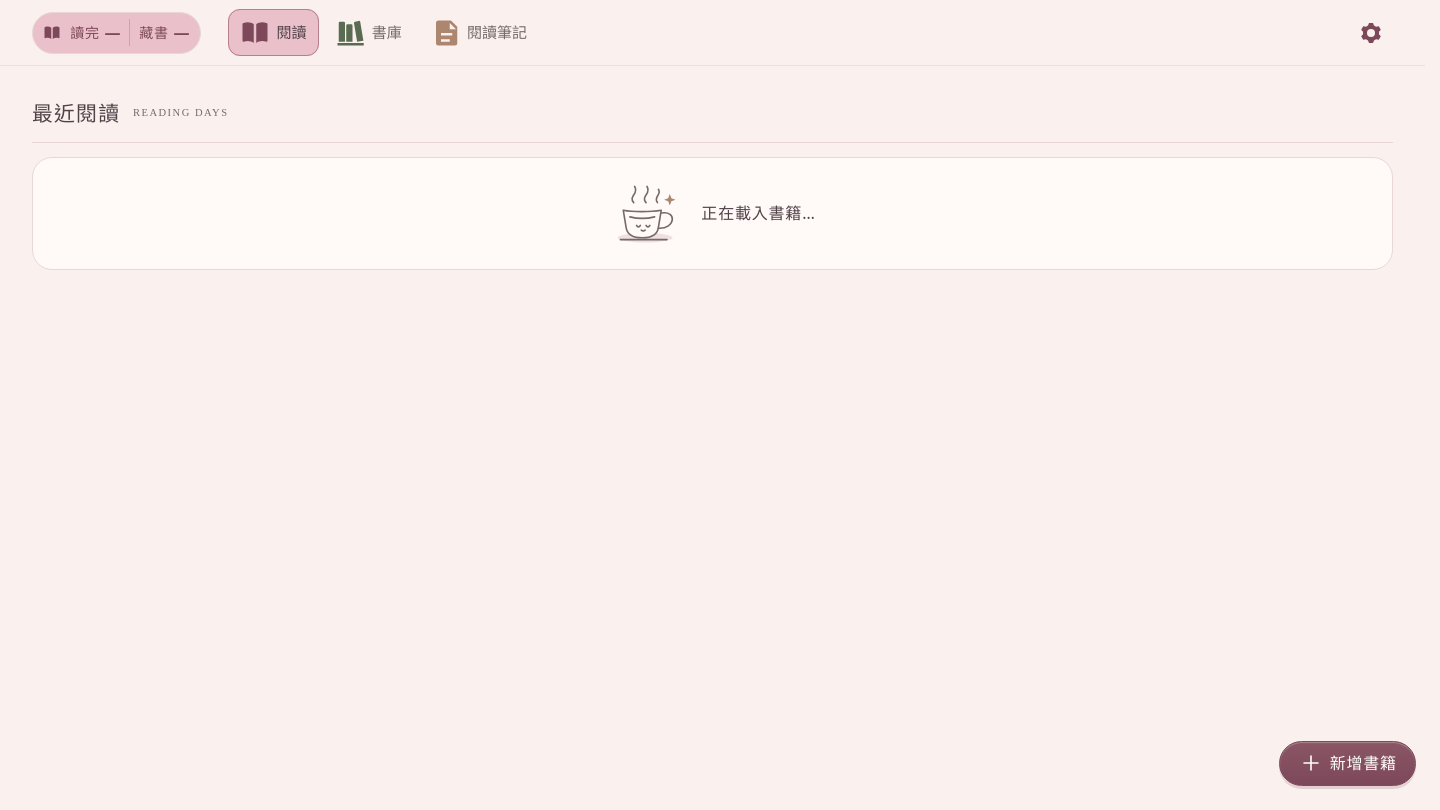
Test: library reading entries › rates a completed book directly in the shelf, retaining its ten-point scale and manual fields
What coordinates should you click on to do the following:
click the button "書庫"
I would click on:
 (369, 33)
Its box is [323,9,414,56].
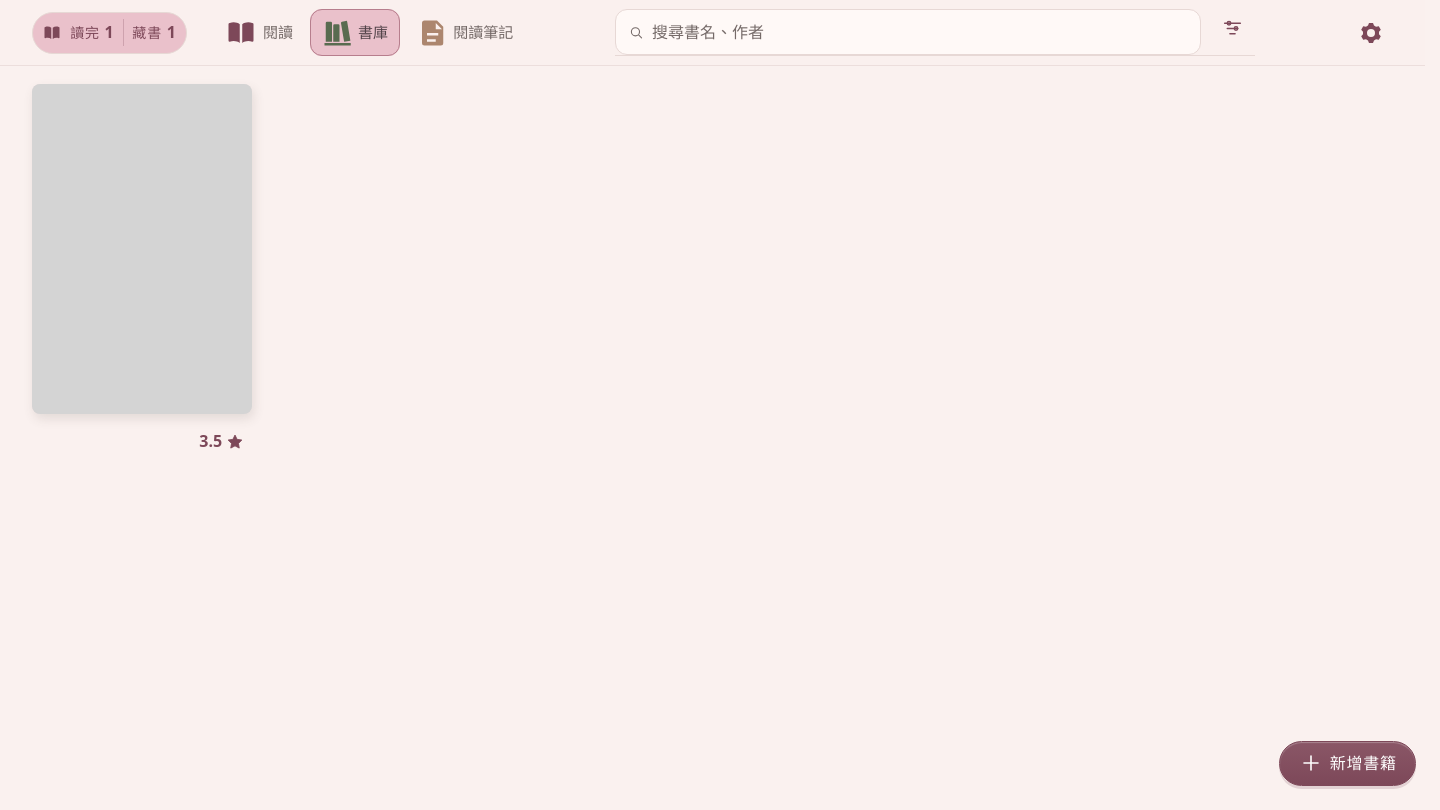
What coordinates should you click on to do the following:
click the button "3.5"
I would click on:
 (222, 442)
Its box is [191,420,252,464].
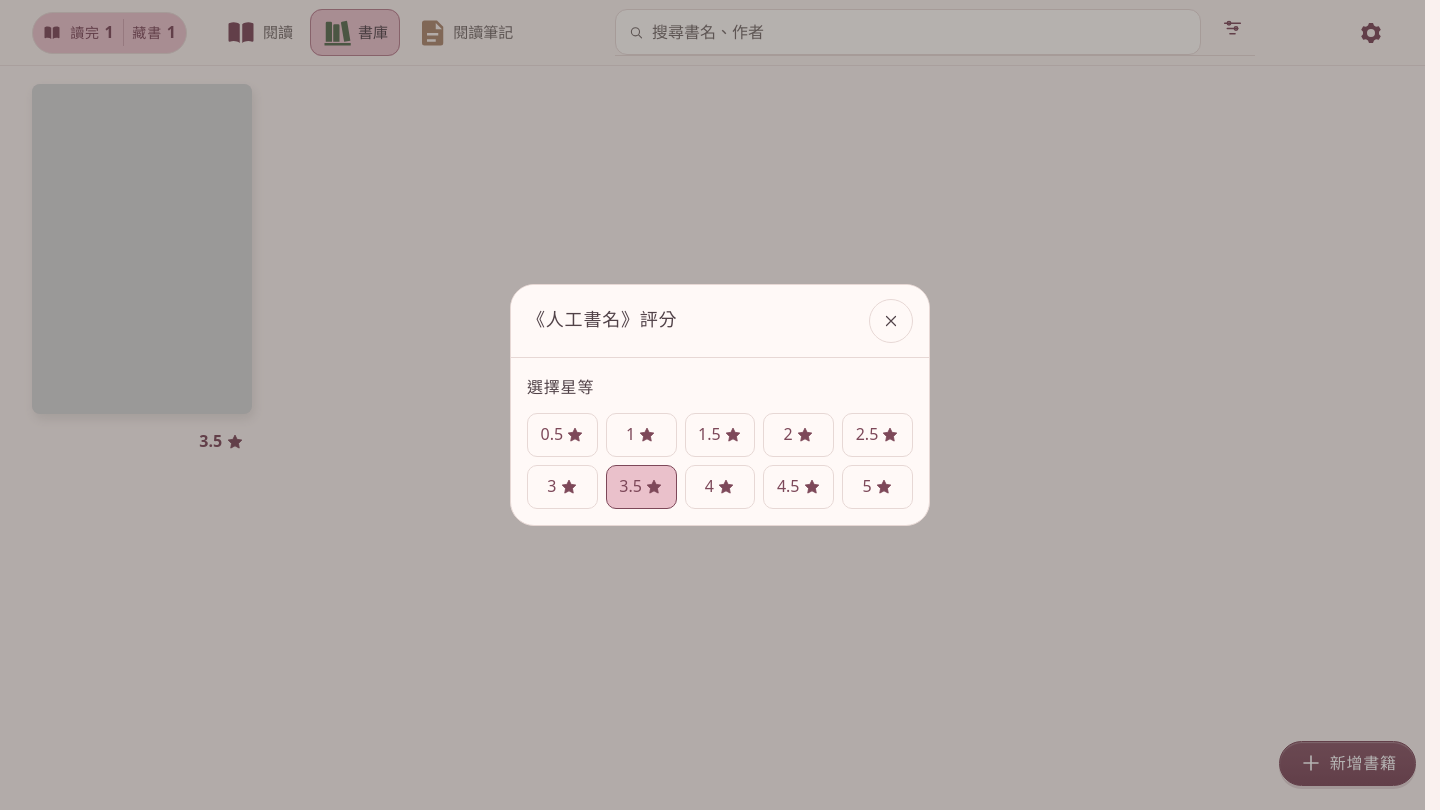
What coordinates should you click on to do the following:
click the button named "評為 4 星"
I would click on:
 (720, 487)
Its box is [685,465,755,509].
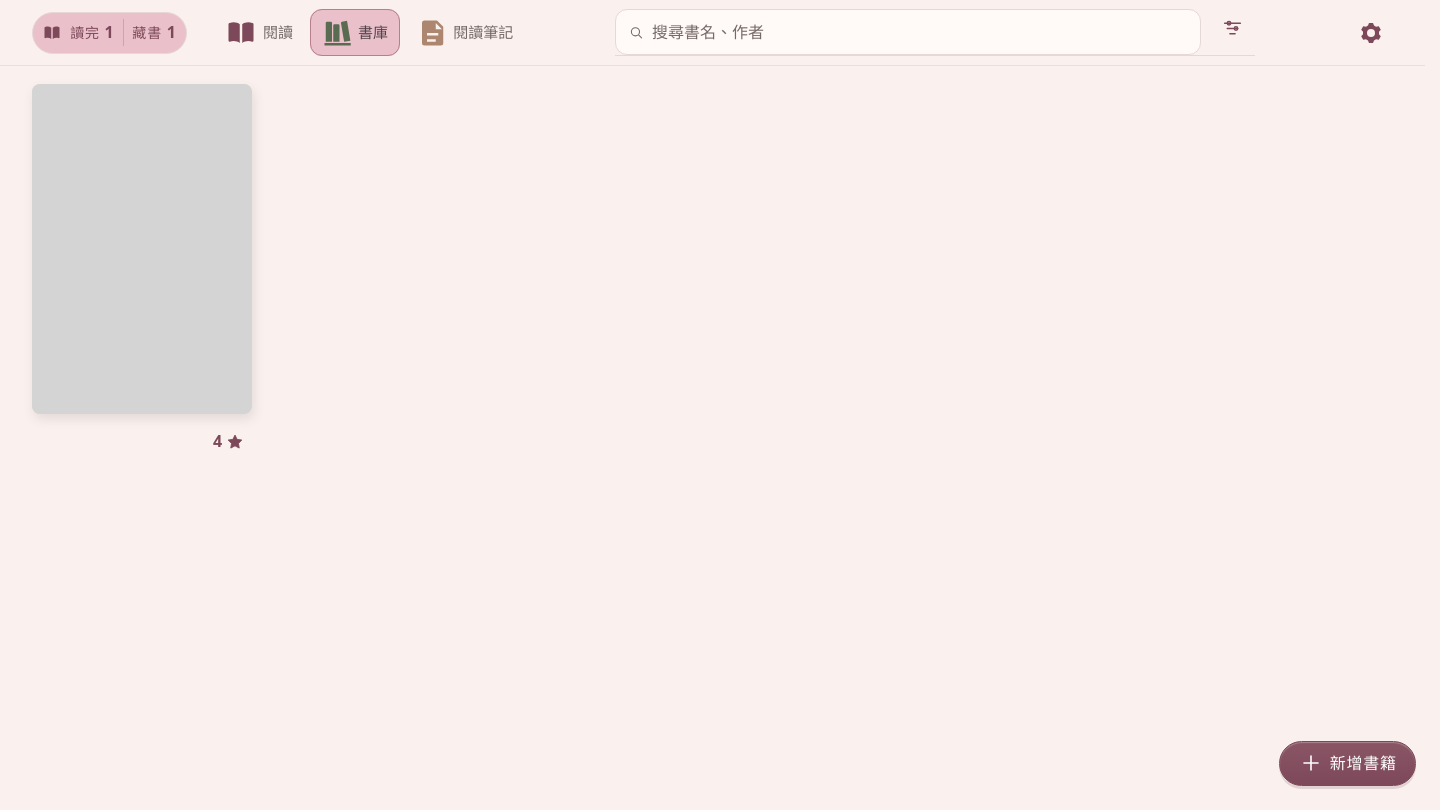
Now the element named "《人工書名》評分：4 星" is shown, box [205,420,252,464]
Now the dialog is gone
